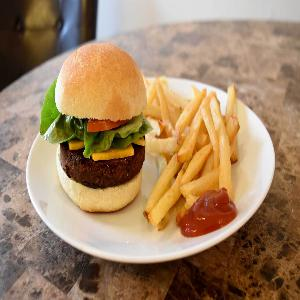cheeseburger: (46, 37, 151, 223)
fries: (145, 74, 245, 237)
